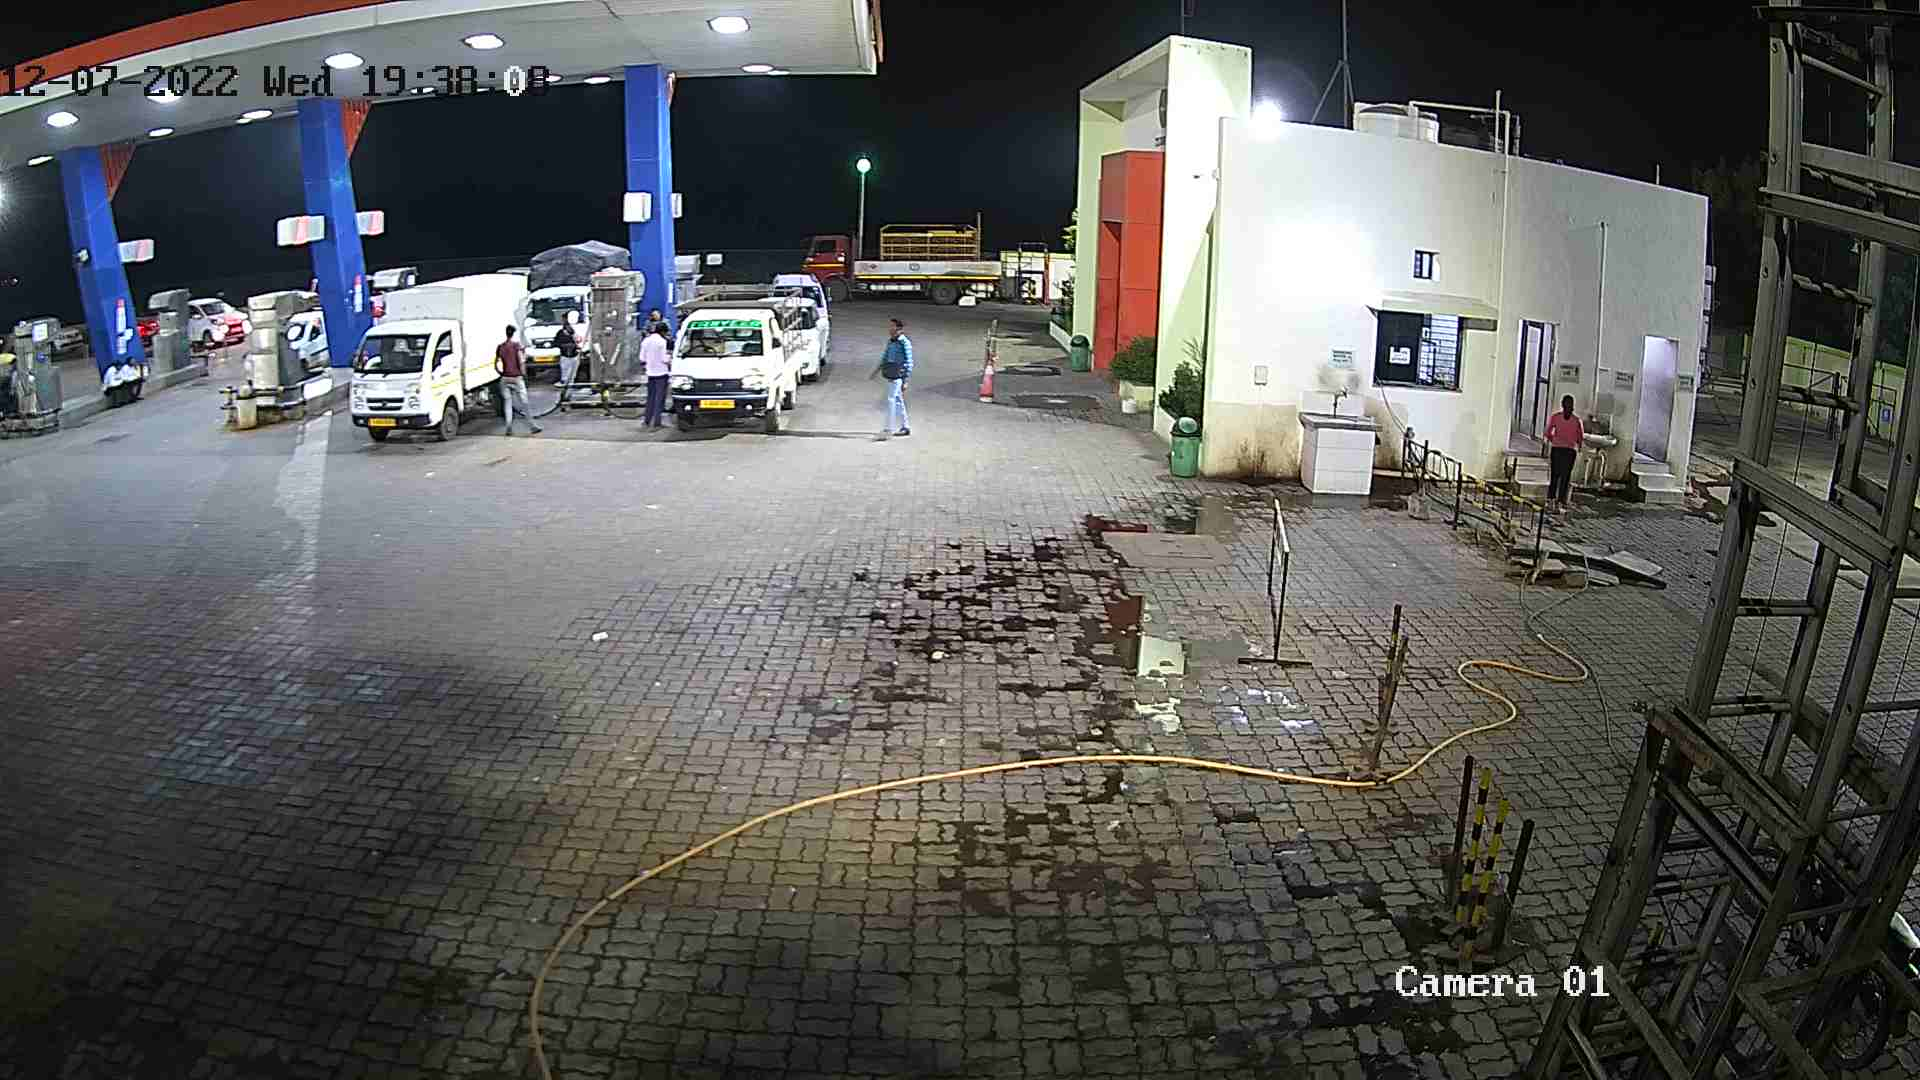Auto: (1, 344, 26, 440)
Car: (748, 280, 831, 392), (761, 262, 840, 363), (167, 286, 258, 363), (278, 285, 342, 386), (9, 309, 91, 368)
HMV: (328, 264, 560, 459), (641, 262, 829, 450), (779, 196, 1058, 314), (505, 233, 641, 386)
